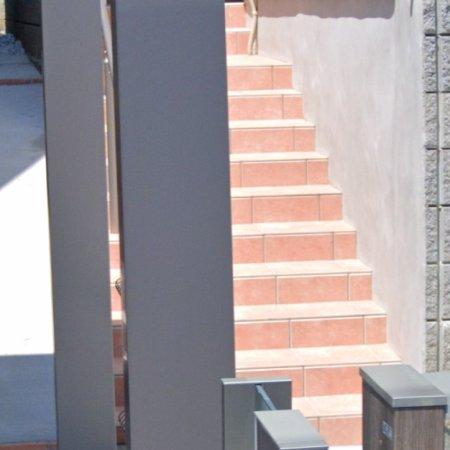stairs: (226, 4, 399, 446)
